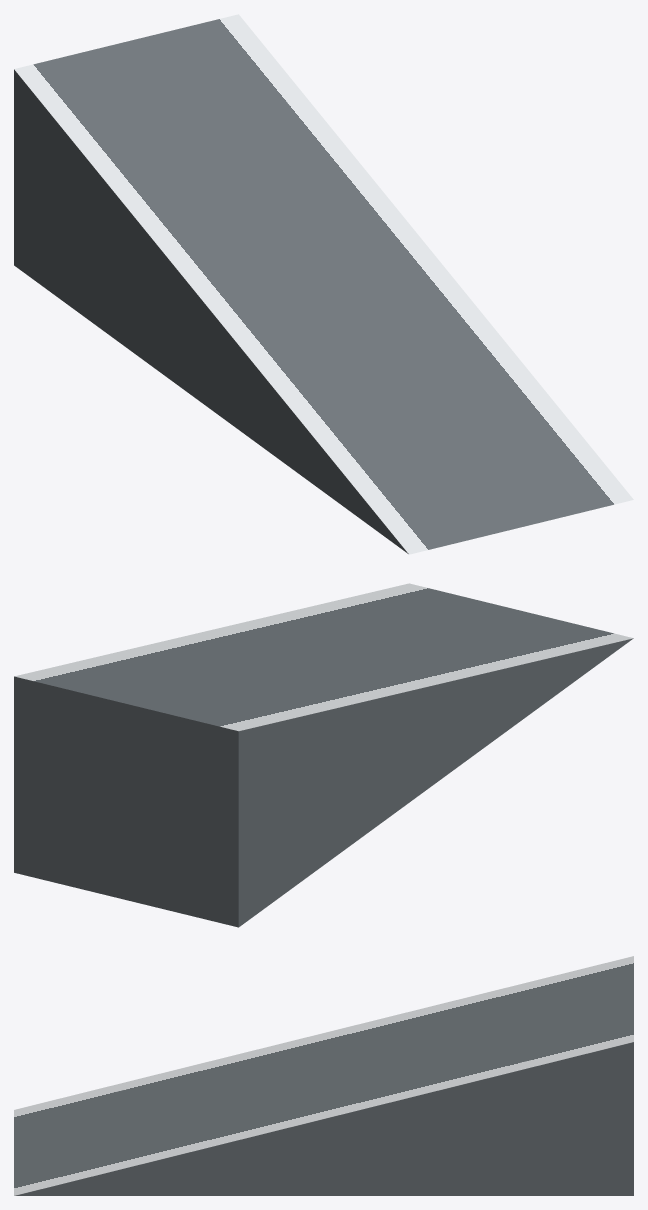
The model's file is SlopeSemi-SteapThin.fbx.
3 renders of one model, top to bottom at view 1: azimuth 30°, elevation 25°; view 2: azimuth 150°, elevation 25°; view 3: azimuth 270°, elevation 25°, orthographic. The views are drawn at different scales.
Parts seen in each view (by area): view 1: Cube; view 2: Cube; view 3: Cube.
Part boxes in pixels (x1=…): Cube: x1=14, y1=14, x2=633, y2=554; Cube: x1=14, y1=583, x2=633, y2=927; Cube: x1=14, y1=956, x2=633, y2=1195.
Size of the model in its own units: 243 by 203 by 741.
